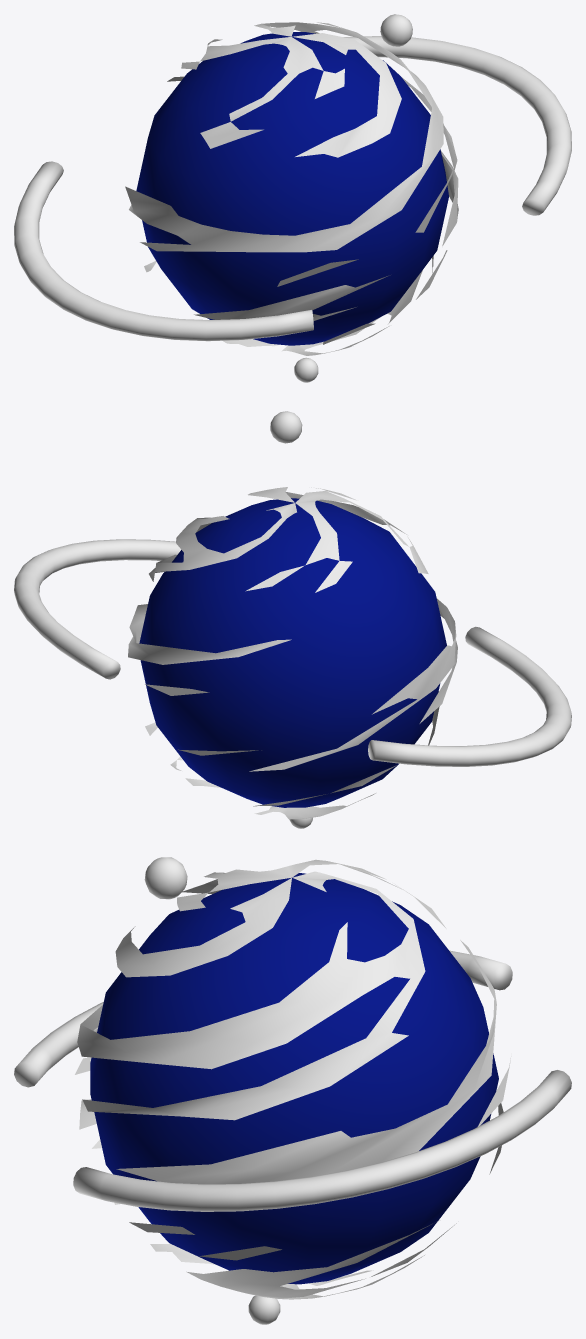
File: coleccionable.fbx
3 views of the same model, one above another, from view 1: azimuth 30°, elevation 25°; view 2: azimuth 150°, elevation 25°; view 3: azimuth 270°, elevation 25° (orthographic). The views are drawn at different scales.
Parts seen in each view (by area): view 1: Sphere.005, Sphere, Torus, Sphere.001, Sphere.002; view 2: Sphere.005, Sphere, Torus, Sphere.001; view 3: Sphere.005, Sphere, Torus, Sphere.001, Sphere.002.
Boxes of the visible parts, x1,y1,x2,y2 form: Sphere.005: (136,32,448,345); Sphere: (125,22,458,355); Torus: (14,36,571,341); Sphere.001: (380,14,412,46); Sphere.002: (294,357,318,382); Sphere.005: (139,498,446,807); Sphere: (128,487,457,819); Torus: (14,539,571,766); Sphere.001: (270,411,302,443); Sphere.005: (90,873,498,1284); Sphere: (75,859,511,1299); Torus: (14,950,571,1211); Sphere.001: (144,857,187,899); Sphere.002: (248,1295,280,1324).
Bounding box in the file's own units: 3.49 × 2.47 × 2.5.
